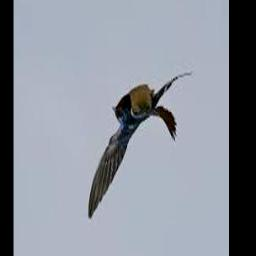Swallow: (88, 70, 192, 222)
